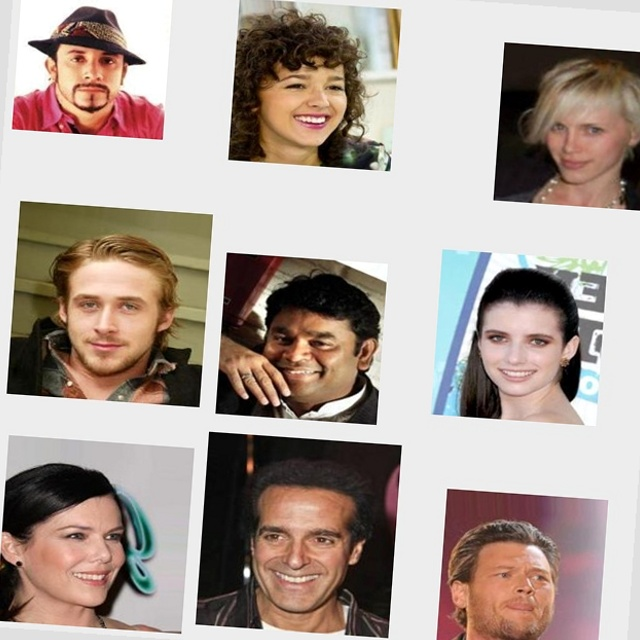celeb_1212: (470, 458, 640, 630)
celeb_2336: (226, 433, 432, 639)
celeb_2970: (431, 221, 608, 398)
celeb_3: (0, 13, 139, 174)
celeb_5695: (28, 465, 227, 640)
celeb_7: (218, 255, 391, 427)
celeb_7007: (195, 1, 369, 174)
celeb_797: (464, 8, 633, 177)
celeb_8335: (7, 231, 213, 437)
